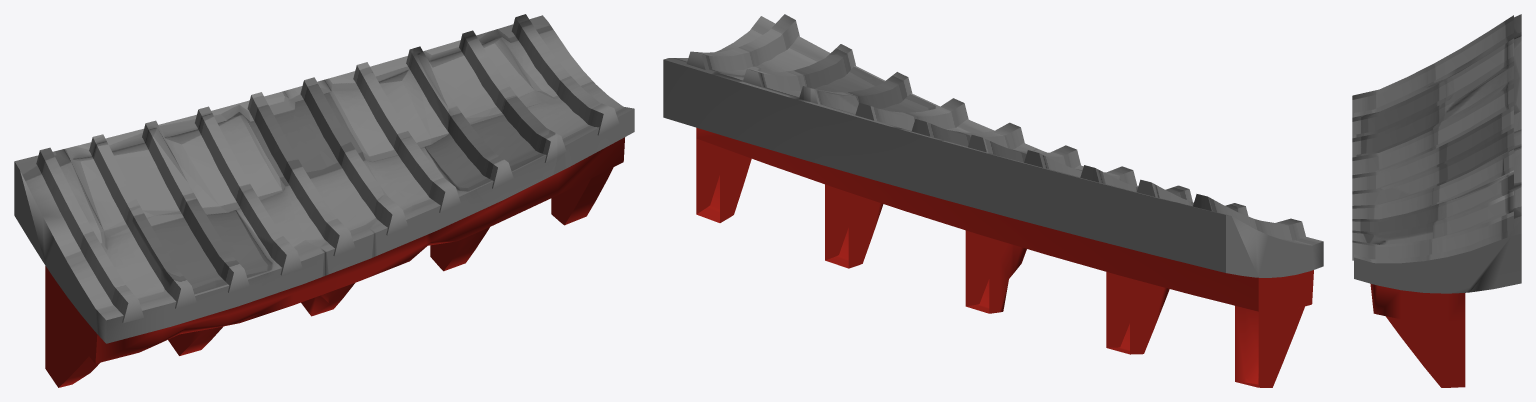
The model's file is SM_Bld_Kawara_Eave_Tip_Near_01.fbx.
The picture shows the model from 3 angles, left to right: view 1: azimuth 30°, elevation 25°; view 2: azimuth 150°, elevation 25°; view 3: azimuth 270°, elevation 25°; orthographic projection. The views are drawn at different scales.
Parts seen in each view (by area): view 1: SM_Bld_Kawara_Eave_Tip_Near_01; view 2: SM_Bld_Kawara_Eave_Tip_Near_01; view 3: SM_Bld_Kawara_Eave_Tip_Near_01.
Boxes of the visible parts, <box> form: SM_Bld_Kawara_Eave_Tip_Near_01: <box>14,14,634,387</box>; SM_Bld_Kawara_Eave_Tip_Near_01: <box>663,14,1323,387</box>; SM_Bld_Kawara_Eave_Tip_Near_01: <box>1352,14,1521,387</box>.
Size of the model in its own units: 5 by 2 by 1.52.
